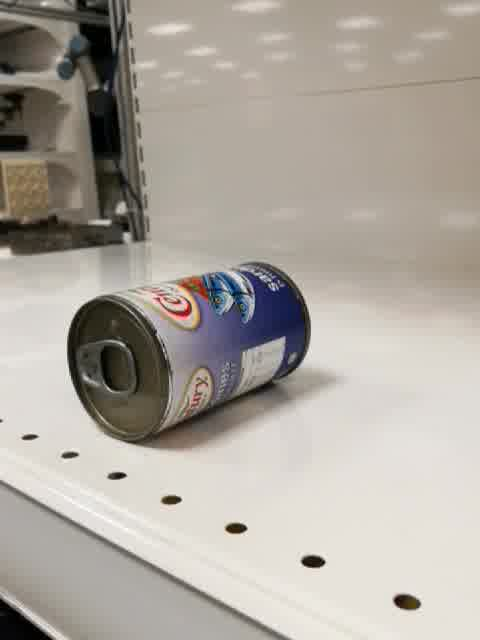sardine: (67, 263, 310, 445)
